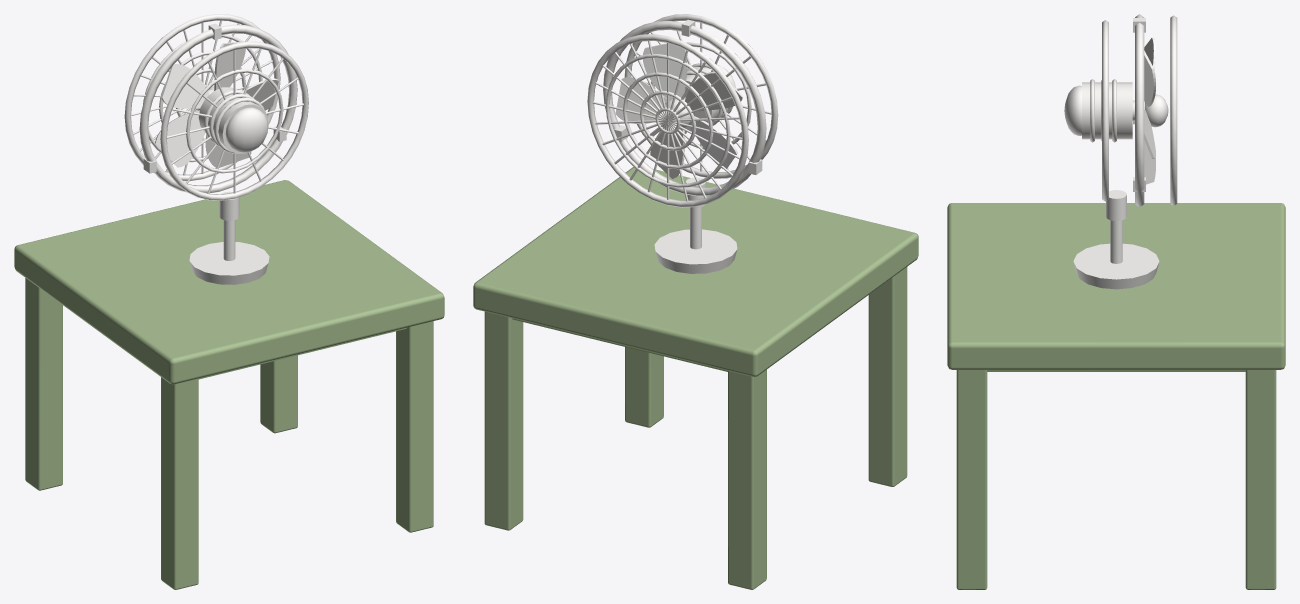
The model's file is table-chevet.glb.
3 views of the same model, side by side, from view 1: azimuth 30°, elevation 25°; view 2: azimuth 150°, elevation 25°; view 3: azimuth 270°, elevation 25° (orthographic). The views are drawn at different scales.
Parts seen in each view (by area): view 1: table-chevet; view 2: table-chevet; view 3: table-chevet.
Part boxes in pixels (x1,y1,x2,y2): table-chevet: (14,14,444,589); table-chevet: (473,14,918,589); table-chevet: (947,14,1285,589).
Size of the model in its own units: 0.55 by 0.9 by 0.55.
